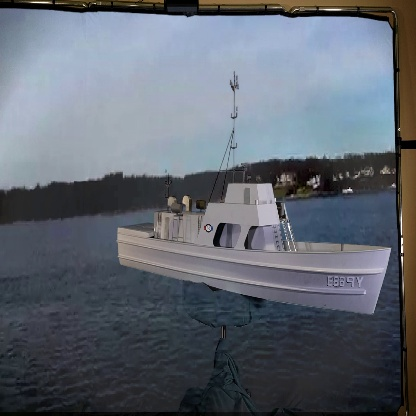YP689: (115, 72, 392, 319)
